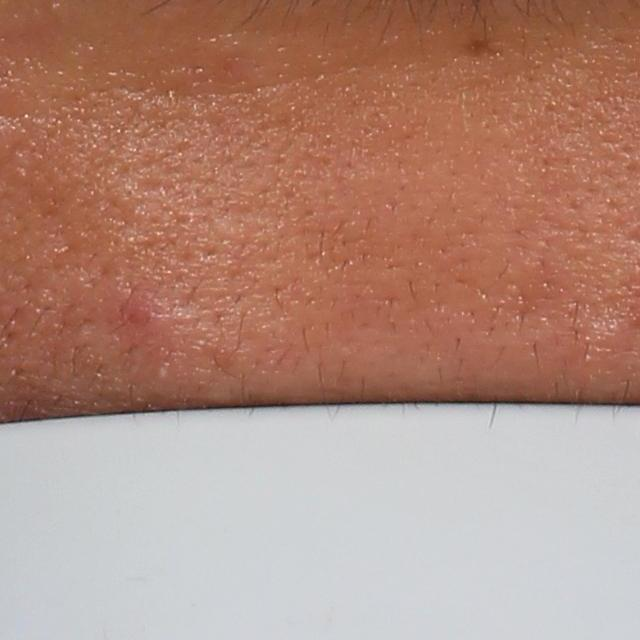papule: (116, 287, 161, 333)
